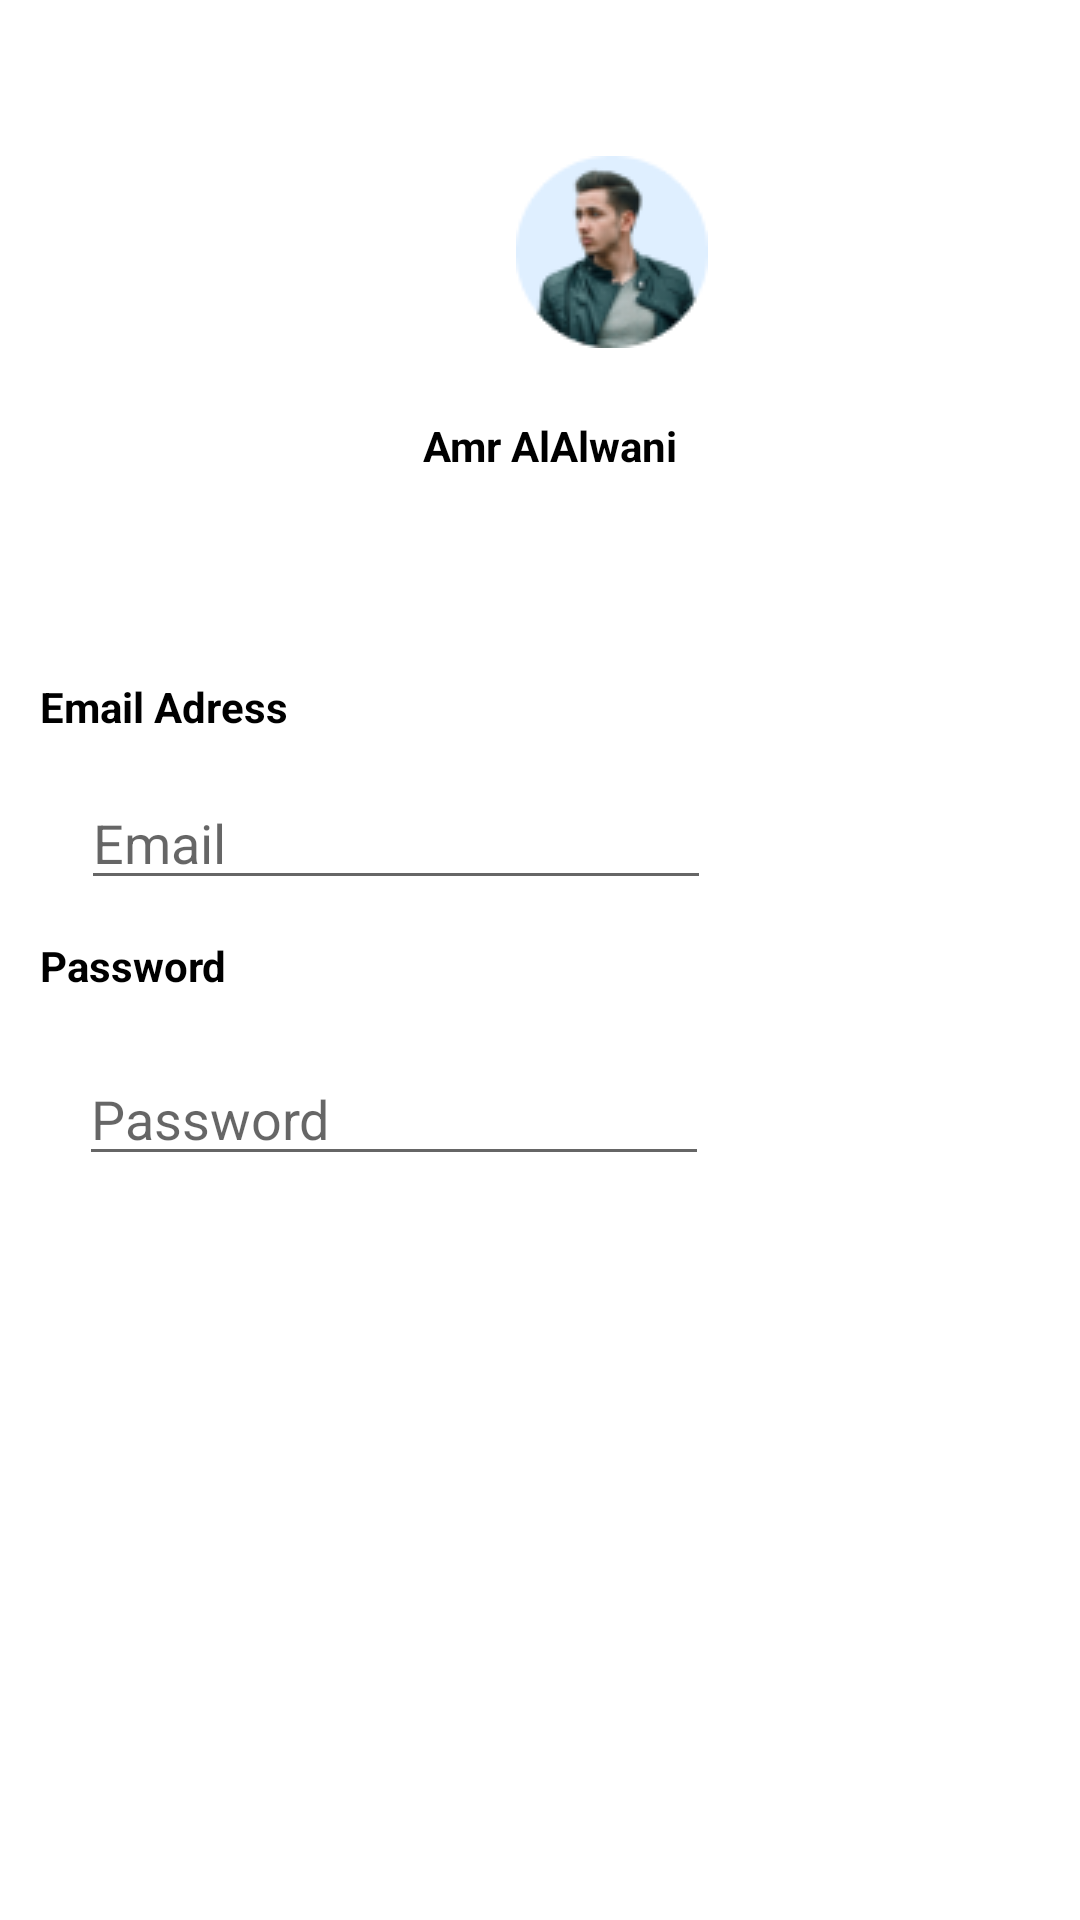

Icon bounding boxes for this 1080w x 1920h phone screenshot, format region(x1, y1, x2, y2):
prof: region(516, 156, 708, 348)
